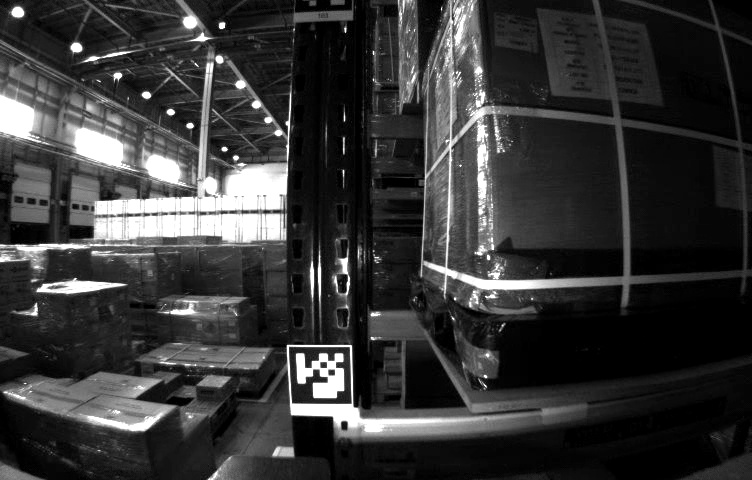True Barcode: (492, 8, 539, 52)
